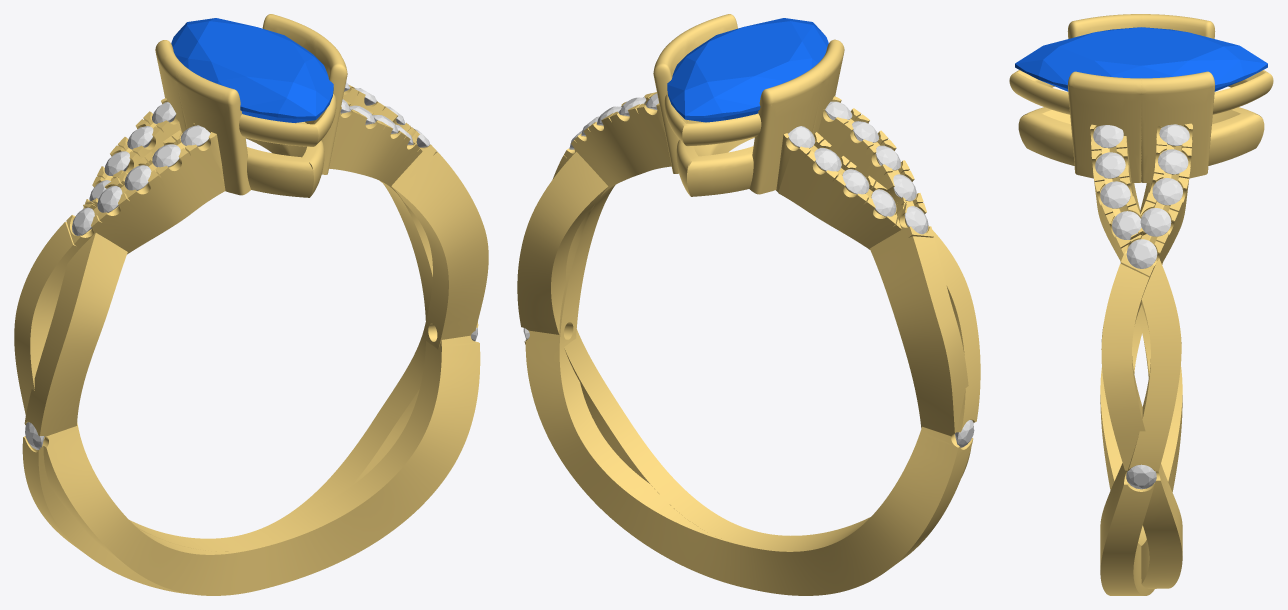
Rendered from bluesapphire-marquise-yellowgold-halfmoonbezel-twist-sidestones.glb.
3 renders of one model, left to right at view 1: azimuth 30°, elevation 25°; view 2: azimuth 150°, elevation 25°; view 3: azimuth 270°, elevation 25°, orthographic.
Visible parts, largest first — view 1: metal.003, stone; view 2: metal.003, stone; view 3: metal.003, stone, Twist diamonds.015, Twist diamonds.016, Twist diamonds.017, Twist diamonds.012, Twist diamonds.011, Twist diamonds.013, Twist diamonds.018, Twist diamonds.010, Twist diamonds.014, Twist diamonds.019.
Boxes of the visible parts, x1=… form: metal.003: x1=14, y1=14, x2=488, y2=595; stone: x1=171, y1=18, x2=333, y2=122; metal.003: x1=517, y1=14, x2=980, y2=595; stone: x1=667, y1=18, x2=828, y2=122; metal.003: x1=1009, y1=14, x2=1273, y2=595; stone: x1=1015, y1=27, x2=1267, y2=91; Twist diamonds.015: x1=1126, y1=239, x2=1157, y2=268; Twist diamonds.016: x1=1140, y1=208, x2=1171, y2=236; Twist diamonds.017: x1=1152, y1=178, x2=1182, y2=205; Twist diamonds.012: x1=1100, y1=181, x2=1130, y2=208; Twist diamonds.011: x1=1112, y1=211, x2=1141, y2=239; Twist diamonds.013: x1=1095, y1=152, x2=1125, y2=178; Twist diamonds.018: x1=1158, y1=149, x2=1188, y2=174; Twist diamonds.010: x1=1126, y1=464, x2=1156, y2=489; Twist diamonds.014: x1=1093, y1=125, x2=1123, y2=148; Twist diamonds.019: x1=1159, y1=124, x2=1189, y2=145.
Bounding box in the file's own units: 19.97 × 22.73 × 10.4.
